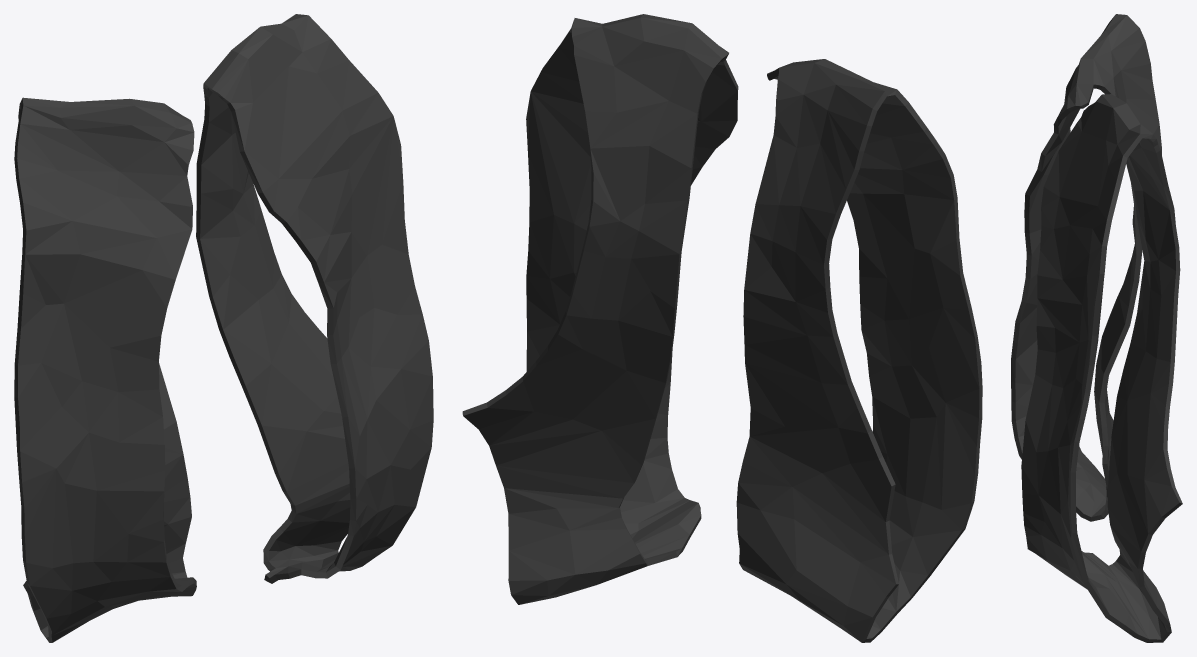
Rendered from c7_laminae.glb.
3 renders of one model, left to right at view 1: azimuth 30°, elevation 25°; view 2: azimuth 150°, elevation 25°; view 3: azimuth 270°, elevation 25°, orthographic. The views are drawn at different scales.
Visible parts, largest first — view 1: c7_laminae; view 2: c7_laminae; view 3: c7_laminae.
Part boxes in pixels (x1=…): c7_laminae: x1=14, y1=14, x2=433, y2=642; c7_laminae: x1=462, y1=14, x2=982, y2=642; c7_laminae: x1=1011, y1=14, x2=1182, y2=642.
Bounding box in the file's own units: 18.36 × 23.69 × 7.41.
1 material, 1 textured.
